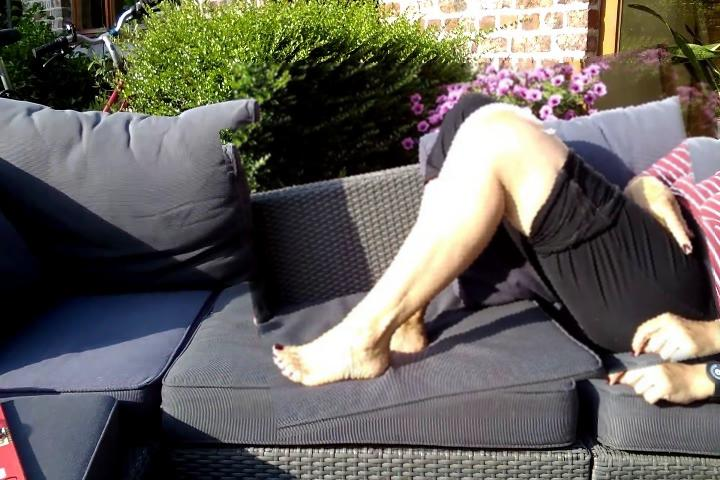lower_body: (233, 64, 716, 419)
